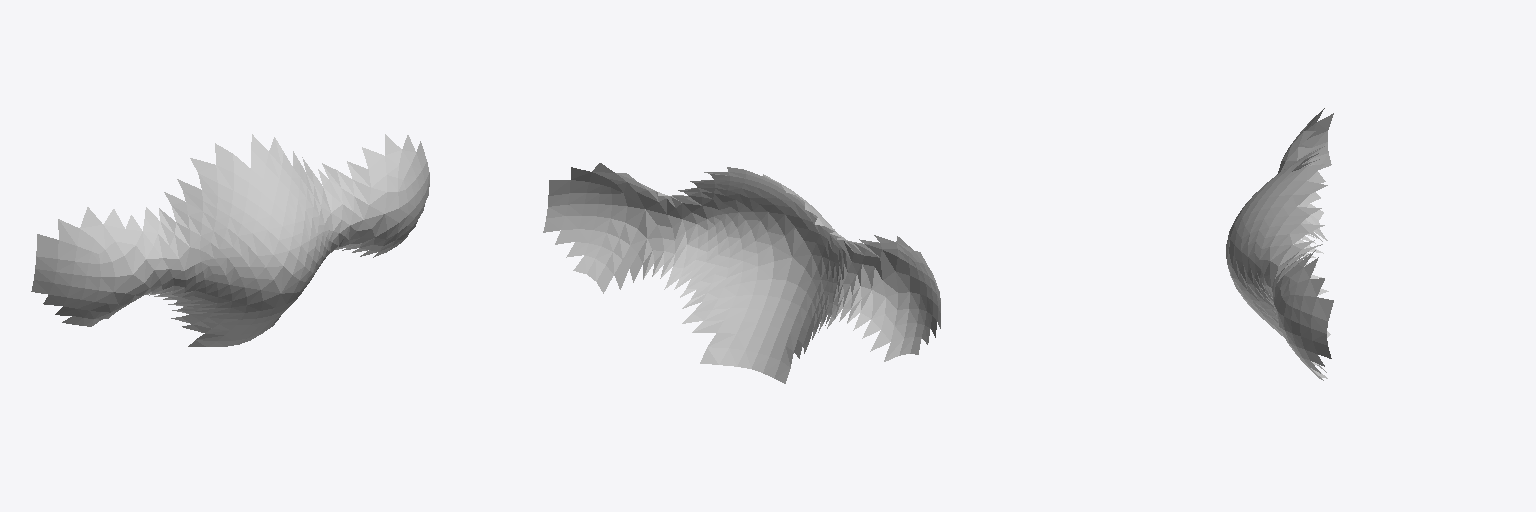
File: blob2_opt_final4_opt_(3).obj
3 renders of one model, left to right at view 1: azimuth 30°, elevation 25°; view 2: azimuth 150°, elevation 25°; view 3: azimuth 270°, elevation 25°, orthographic.
Parts seen in each view (by area): view 1: [local-path]\Google_Drive\PS_structures\source\samples/blob2_opt; view 2: [local-path]\Google_Drive\PS_structures\source\samples/blob2_opt; view 3: [local-path]\Google_Drive\PS_structures\source\samples/blob2_opt.
Part boxes in pixels (left/top/right/bottom): [local-path]\Google_Drive\PS_structures\source\samples/blob2_opt: left=31, top=134, right=429, bottom=346; [local-path]\Google_Drive\PS_structures\source\samples/blob2_opt: left=543, top=163, right=940, bottom=383; [local-path]\Google_Drive\PS_structures\source\samples/blob2_opt: left=1226, top=108, right=1333, bottom=380.
Size of the model in its own units: 39.79 by 19.31 by 9.4.